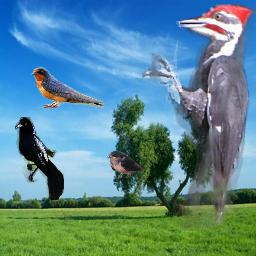Crow: (15, 117, 64, 200)
Swallow: (30, 66, 104, 110), (107, 150, 144, 178)
Woodpecker: (141, 4, 256, 228)
